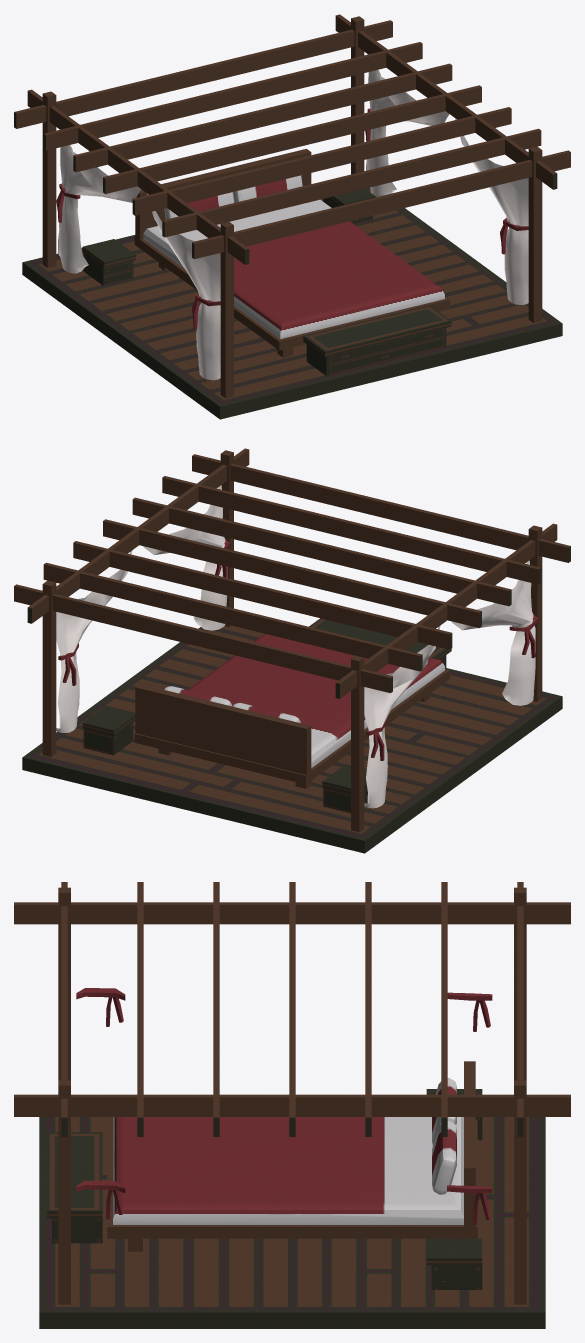
Rendered from 8ca4f37a-00fa-48ec-b6f9-3e4c04efb5ea.glb.
The picture shows the model from 3 angles, top to bottom: view 1: azimuth 30°, elevation 25°; view 2: azimuth 150°, elevation 25°; view 3: azimuth 270°, elevation 25°; orthographic projection. The views are drawn at different scales.
Visible parts, largest first — view 1: Cabana_2, Curtains_2, Pillow_1, Pillow_2; view 2: Cabana_2, Curtains_2; view 3: Cabana_2, Curtains_2, Pillow_1.
Part boxes in pixels (left/top/right/bottom): Cabana_2: left=14, top=14, right=570, bottom=419; Curtains_2: left=56, top=70, right=528, bottom=380; Pillow_1: left=233, top=175, right=302, bottom=202; Pillow_2: left=164, top=192, right=233, bottom=219; Cabana_2: left=14, top=448, right=570, bottom=853; Curtains_2: left=56, top=485, right=538, bottom=808; Cabana_2: left=14, top=882, right=570, bottom=1328; Curtains_2: left=76, top=988, right=492, bottom=1281; Pillow_1: left=432, top=1120, right=456, bottom=1194.
Size of the model in its own units: 1100 by 513 by 1100.
1 material, 1 textured.
